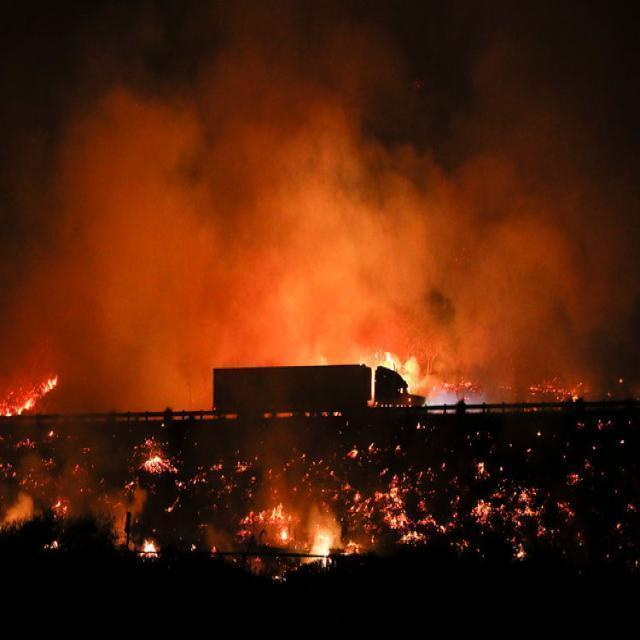Fire: (341, 467, 449, 574), (260, 486, 345, 579), (482, 491, 533, 565), (385, 485, 426, 558), (2, 372, 63, 420), (132, 442, 180, 492), (136, 524, 175, 579)
Smoke: (25, 93, 629, 361)
